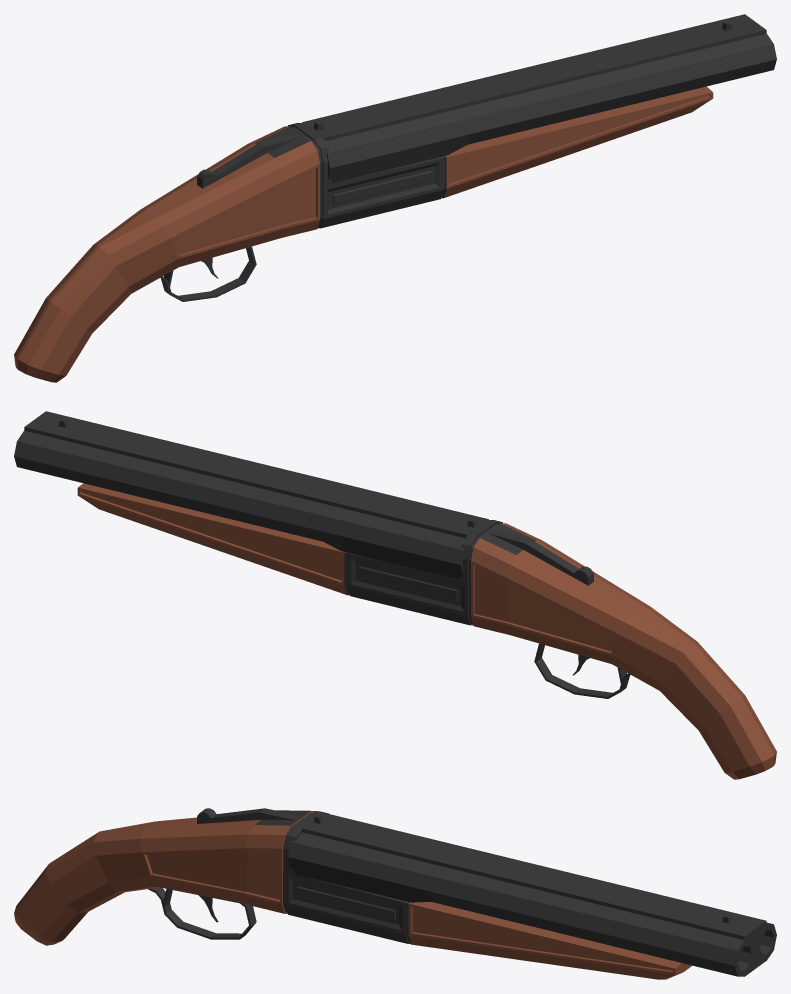
Rendered from SawedOff-Shotgun.fbx.
3 renders of one model, top to bottom at view 1: azimuth 30°, elevation 25°; view 2: azimuth 150°, elevation 25°; view 3: azimuth 330°, elevation 25°, orthographic.
Visible parts, largest first — view 1: Sawed Off, Sawed Off - Barrels; view 2: Sawed Off, Sawed Off - Barrels; view 3: Sawed Off, Sawed Off - Barrels.
Boxes of the visible parts, x1,y1,x2,y2 form: Sawed Off: (14, 14, 766, 382); Sawed Off - Barrels: (326, 33, 776, 183); Sawed Off: (24, 411, 776, 779); Sawed Off - Barrels: (14, 430, 464, 578); Sawed Off: (14, 808, 766, 979); Sawed Off - Barrels: (288, 832, 776, 976).
Size of the model in its own units: 513 by 128 by 50.75.
